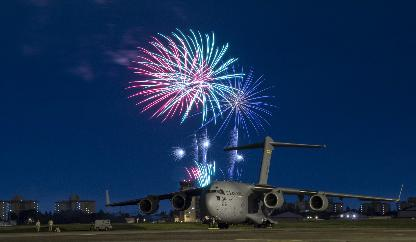C2: (105, 134, 403, 227)
